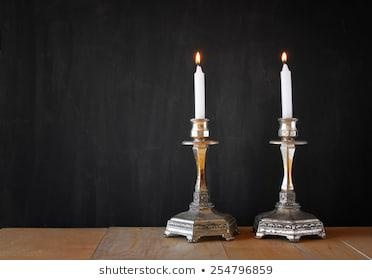fire: (275, 45, 292, 66), (190, 47, 204, 66)
